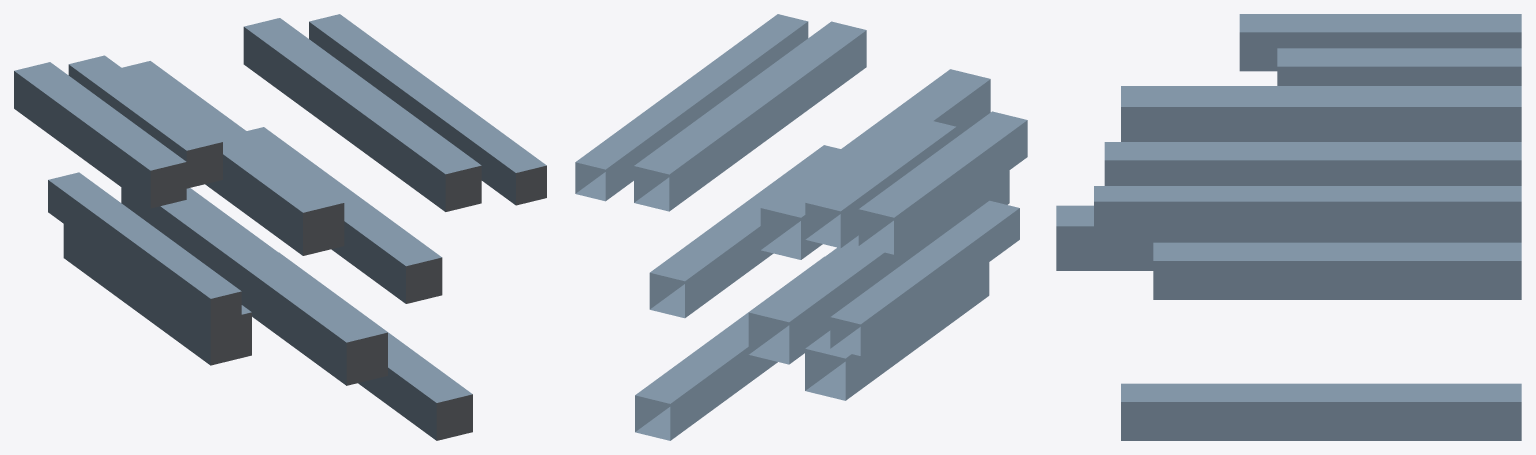
The model's file is island_bldg_03_04.obj.
3 renders of one model, left to right at view 1: azimuth 30°, elevation 25°; view 2: azimuth 150°, elevation 25°; view 3: azimuth 270°, elevation 25°, orthographic. The views are drawn at different scales.
Visible parts, largest first — view 1: island_bldg_03_04; view 2: island_bldg_03_04; view 3: island_bldg_03_04.
Boxes of the visible parts, <box> form: island_bldg_03_04: <box>14,14,546,440</box>; island_bldg_03_04: <box>575,14,1027,440</box>; island_bldg_03_04: <box>1056,14,1521,440</box>.
Bounding box in the file's own units: 252 × 210 × 302.
